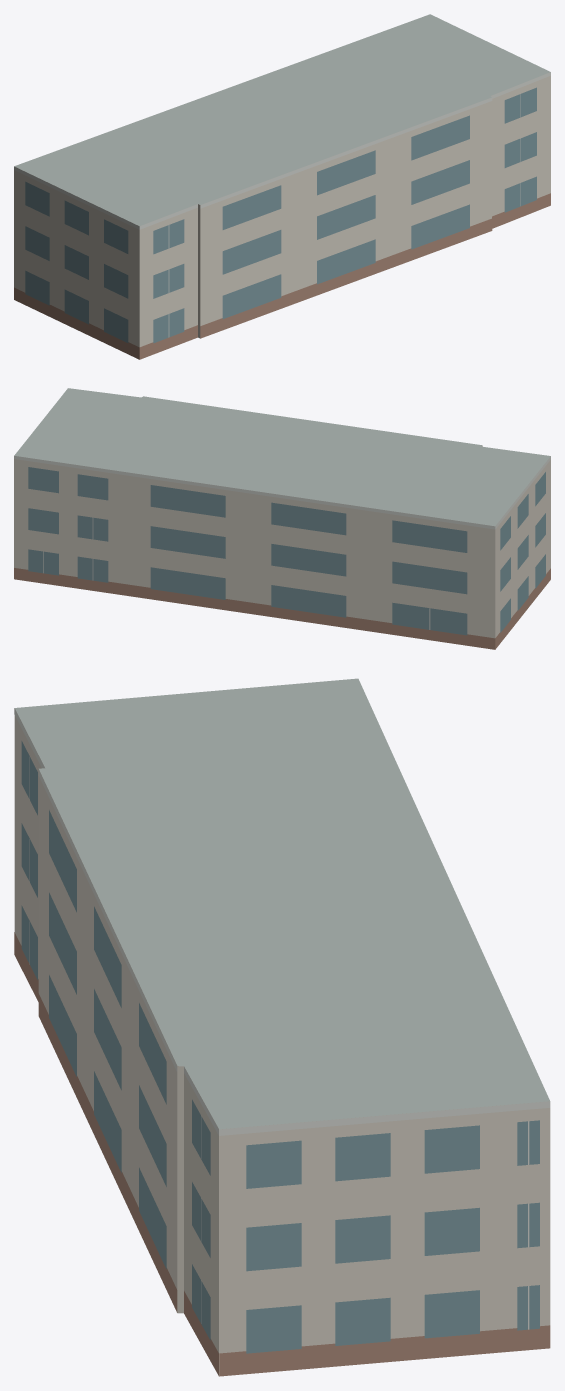
The model's file is survey-upis-32521154.glb.
3 views of the same model, one above another, from view 1: azimuth 30°, elevation 25°; view 2: azimuth 150°, elevation 25°; view 3: azimuth 270°, elevation 25° (orthographic). The views are drawn at different scales.
Visible parts, largest first — view 1: survey-upis-32521154.tmp; view 2: survey-upis-32521154.tmp; view 3: survey-upis-32521154.tmp.
Part boxes in pixels (box(x1,y1,x2,y2)): survey-upis-32521154.tmp: box(14, 14, 550, 359); survey-upis-32521154.tmp: box(14, 388, 550, 649); survey-upis-32521154.tmp: box(14, 678, 550, 1376).
Size of the model in its own units: 35.82 by 9.15 by 17.99.
